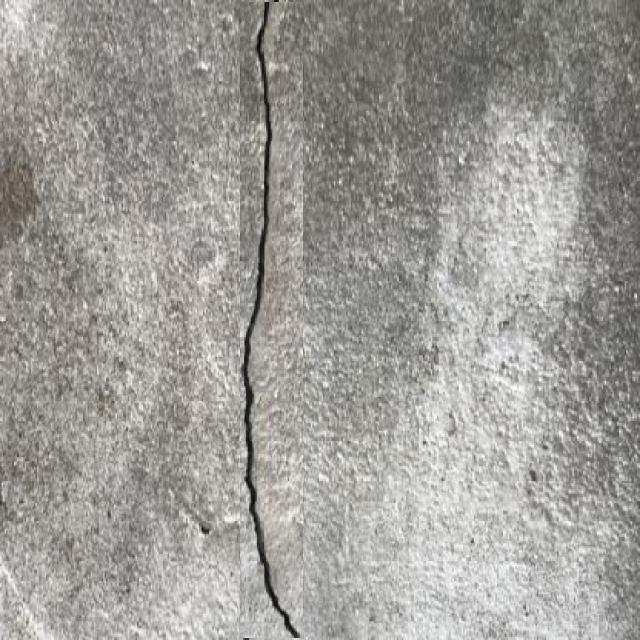vertical crack: (241, 2, 303, 638)
